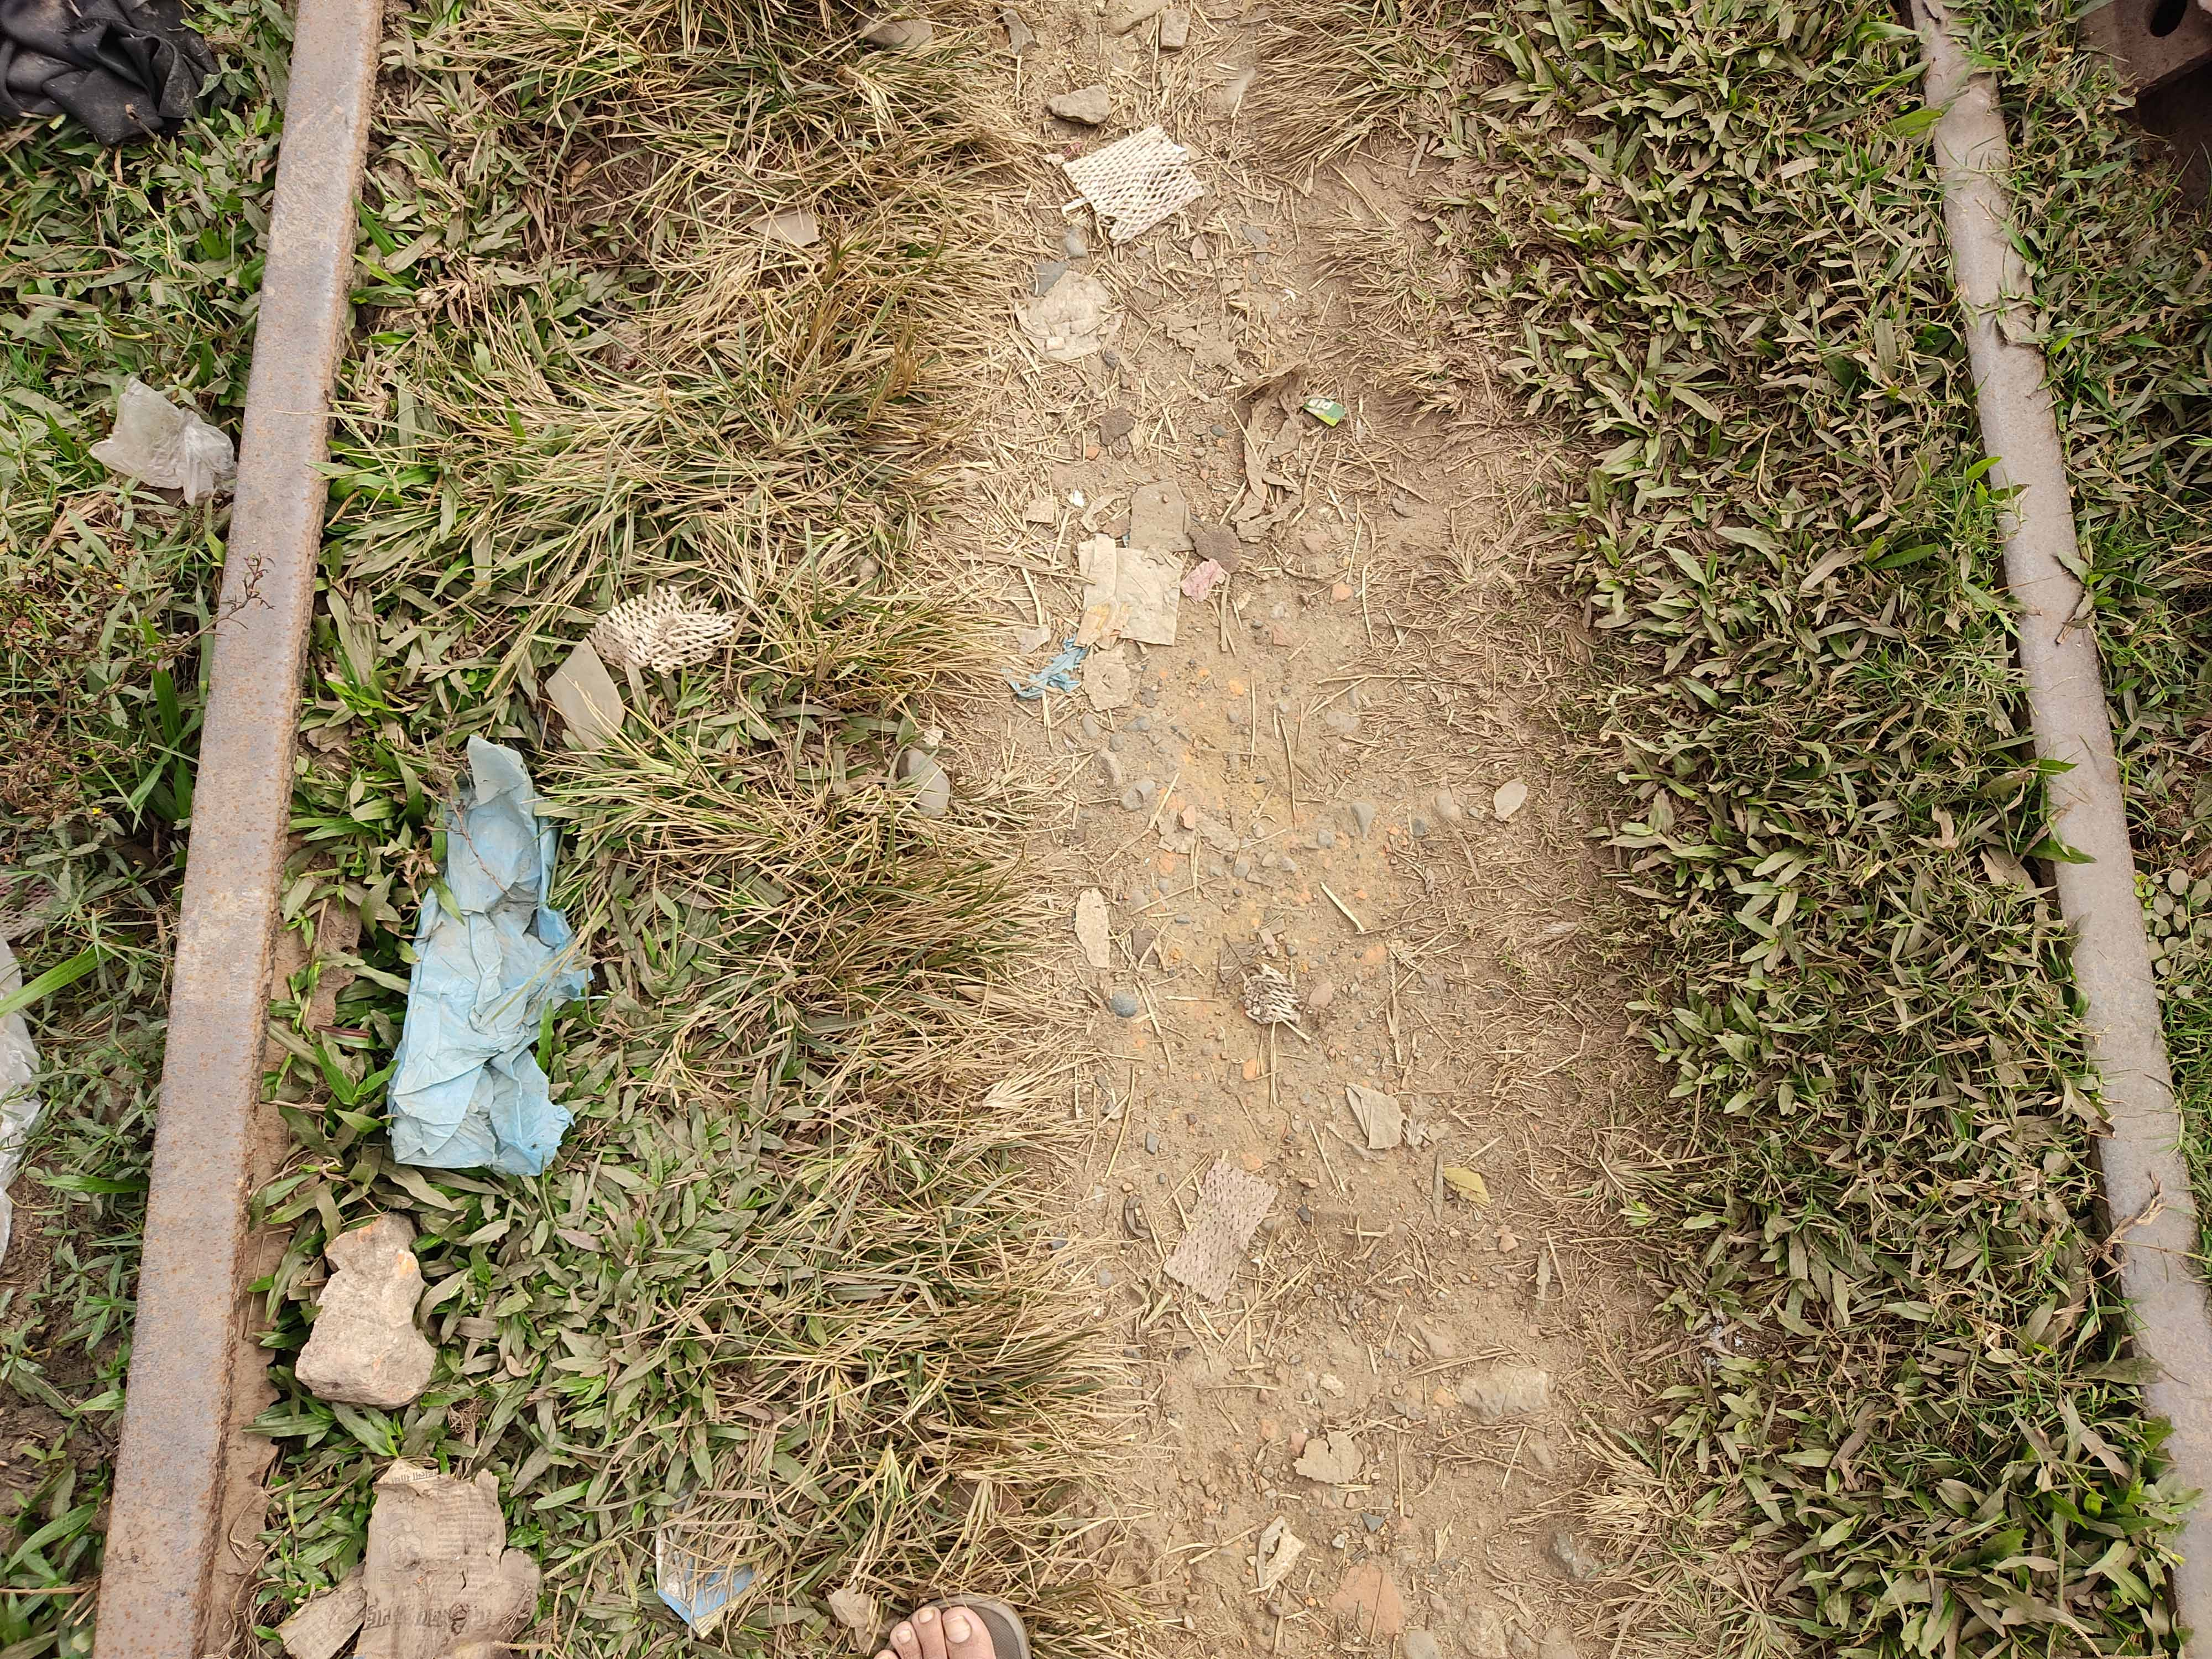error3: (265, 117, 354, 284)
